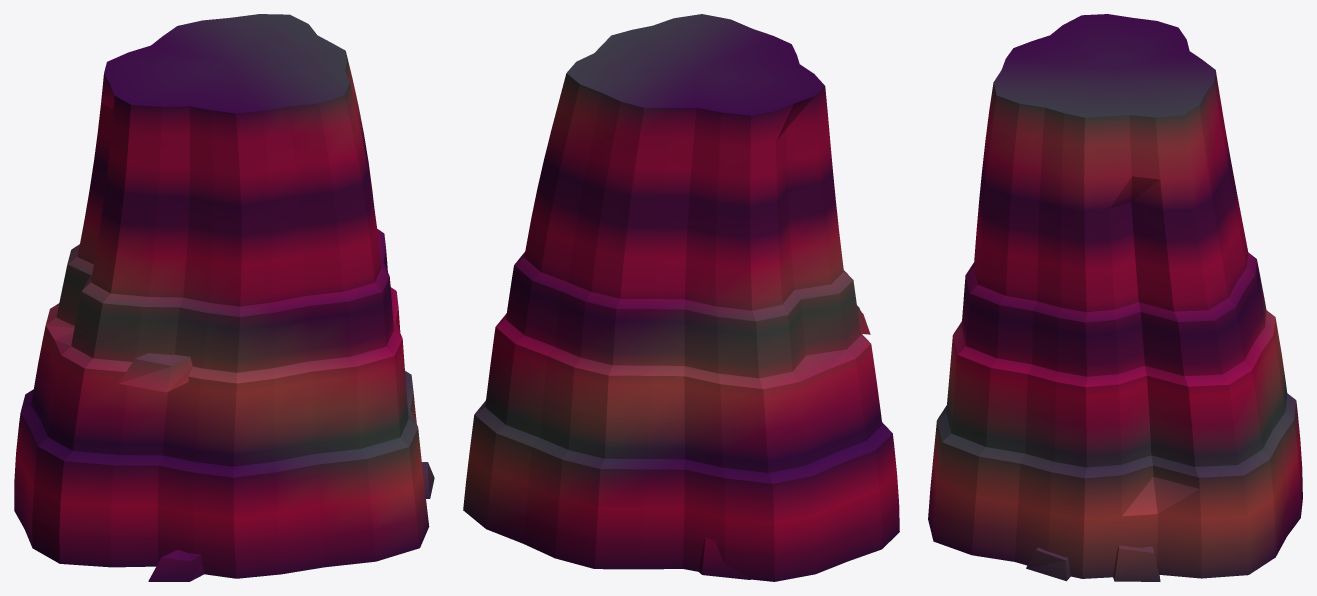
The model's file is SM_CinderCanyon_Rock_F.fbx.
The picture shows the model from 3 angles, left to right: view 1: azimuth 30°, elevation 25°; view 2: azimuth 150°, elevation 25°; view 3: azimuth 270°, elevation 25°; orthographic projection. The views are drawn at different scales.
Parts seen in each view (by area): view 1: SM_CinderCanyon_Rock_F; view 2: SM_CinderCanyon_Rock_F; view 3: SM_CinderCanyon_Rock_F.
Boxes of the visible parts, box(x1,y1,x2,y2) form: SM_CinderCanyon_Rock_F: box(14, 14, 434, 581); SM_CinderCanyon_Rock_F: box(463, 14, 899, 581); SM_CinderCanyon_Rock_F: box(928, 14, 1302, 581).
Bounding box in the file's own units: 100 × 89 × 112.
